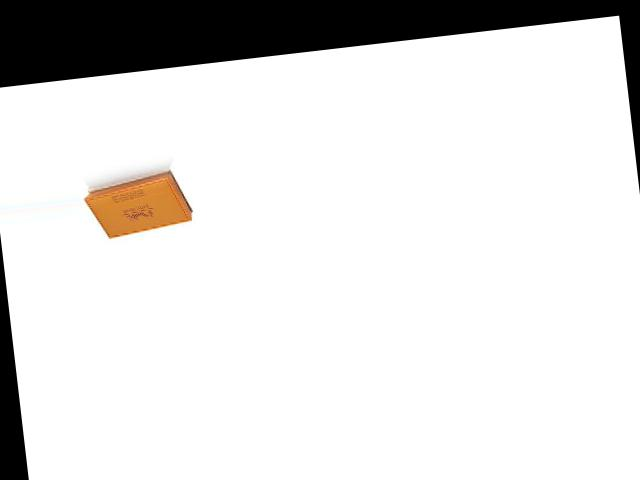chocolate: (82, 159, 197, 244)
